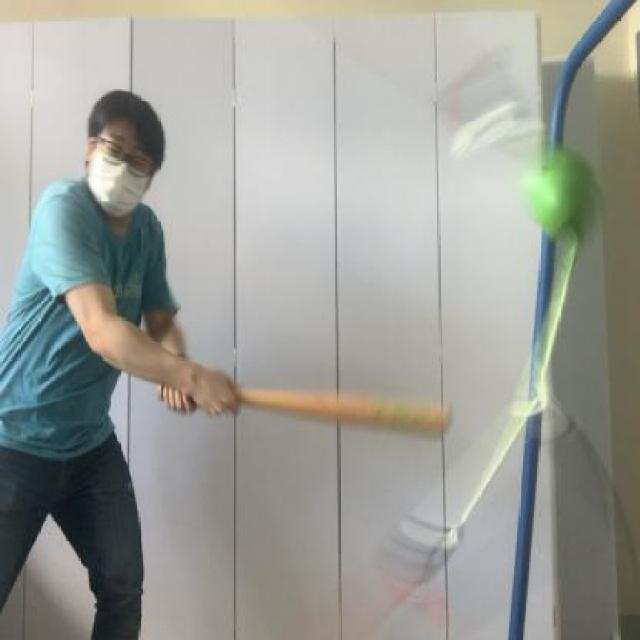baseball: (506, 142, 599, 238)
